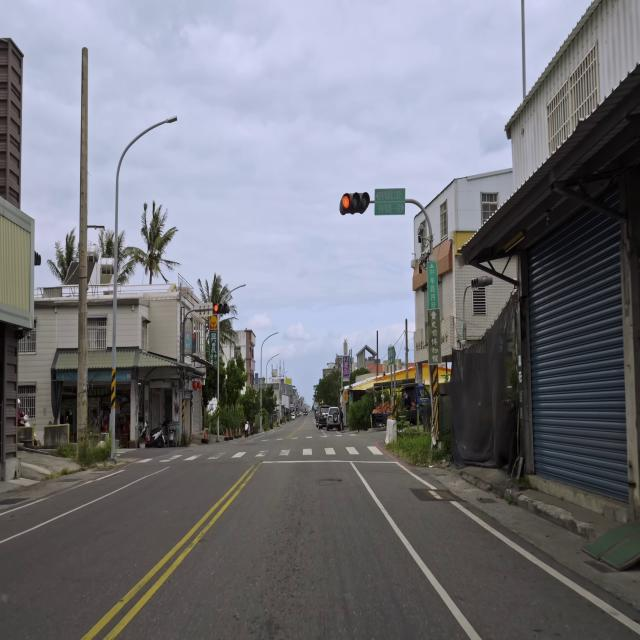red light: (338, 193, 370, 213), (213, 303, 230, 314)
